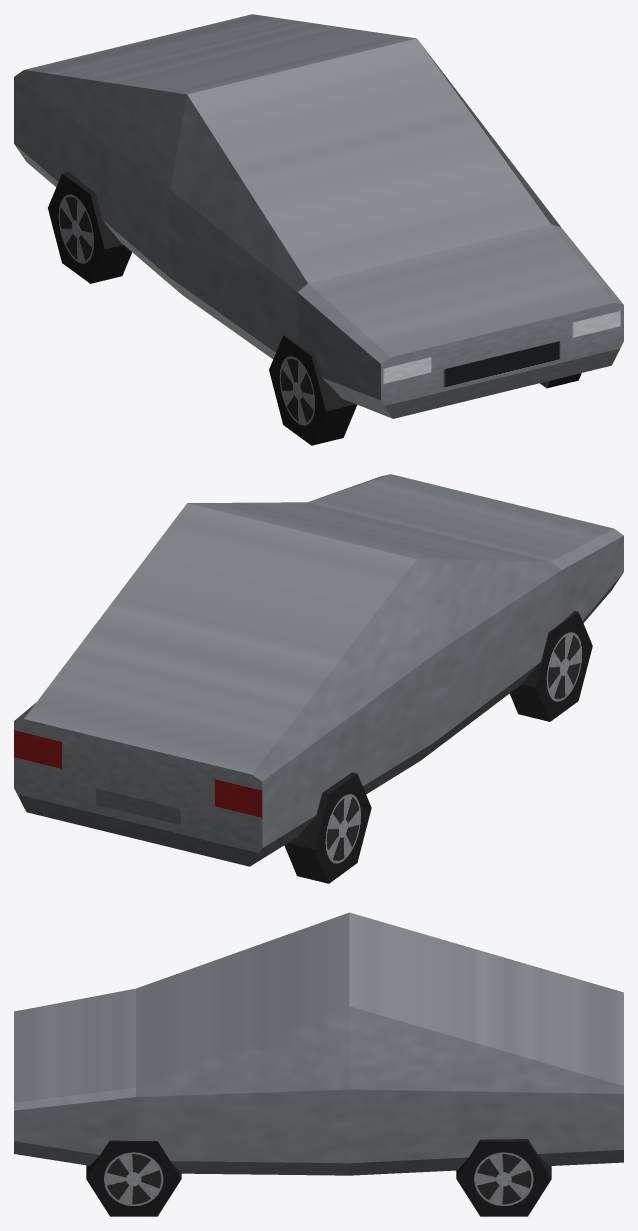
File: SM_Morin_Auto_B_Col_LOD2.fbx
The picture shows the model from 3 angles, top to bottom: view 1: azimuth 30°, elevation 25°; view 2: azimuth 150°, elevation 25°; view 3: azimuth 270°, elevation 25°; orthographic projection. The views are drawn at different scales.
Parts seen in each view (by area): view 1: SM_Morin_Auto_B_Col_LOD2; view 2: SM_Morin_Auto_B_Col_LOD2; view 3: SM_Morin_Auto_B_Col_LOD2.
Boxes of the visible parts, x1=… form: SM_Morin_Auto_B_Col_LOD2: x1=14, y1=14, x2=623, y2=445; SM_Morin_Auto_B_Col_LOD2: x1=14, y1=474, x2=623, y2=883; SM_Morin_Auto_B_Col_LOD2: x1=14, y1=912, x2=623, y2=1216.
Bounding box in the file's own units: 184 × 435 × 159.
1 material, 1 textured.
